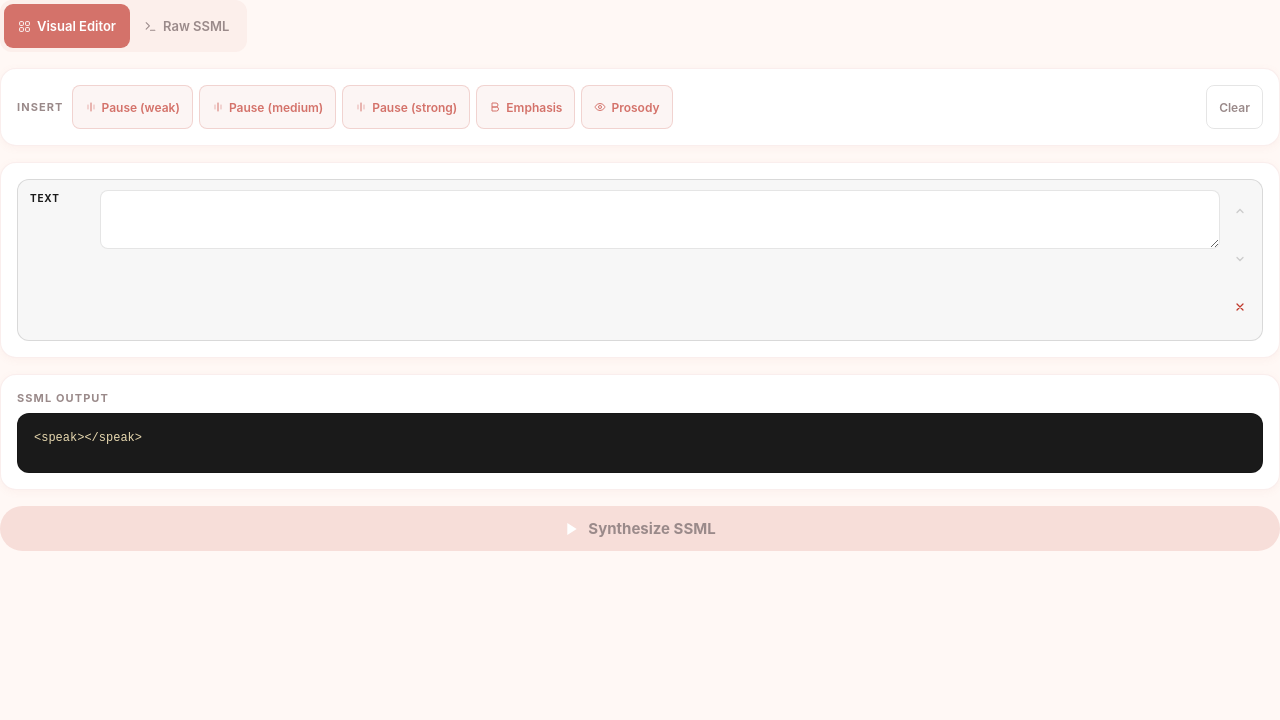
Scenario: tag insertion › emphasized text updates the SSML
Click the button with aria-label "insert emphasis". click: (526, 107)
box: x1=476 y1=85 x2=575 y2=129
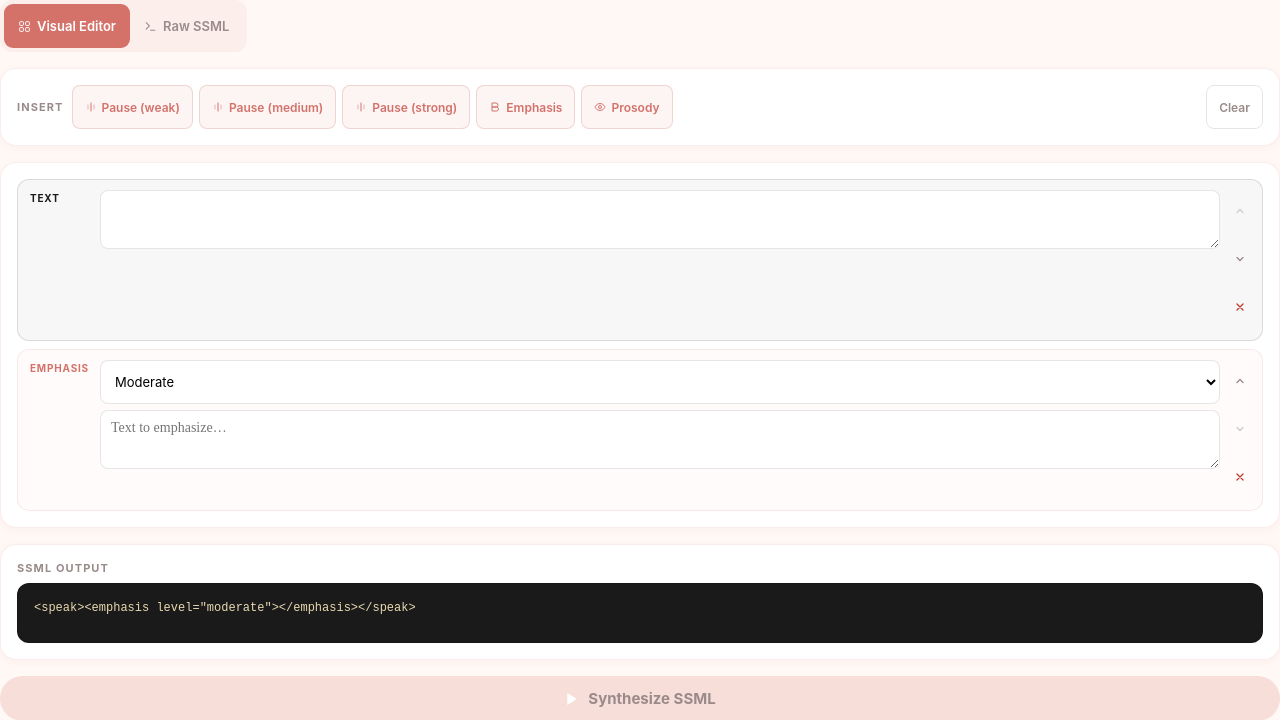
Type "hello" into the text box named "Emphasized text". click: (660, 439)
box: x1=100 y1=410 x2=1220 y2=469
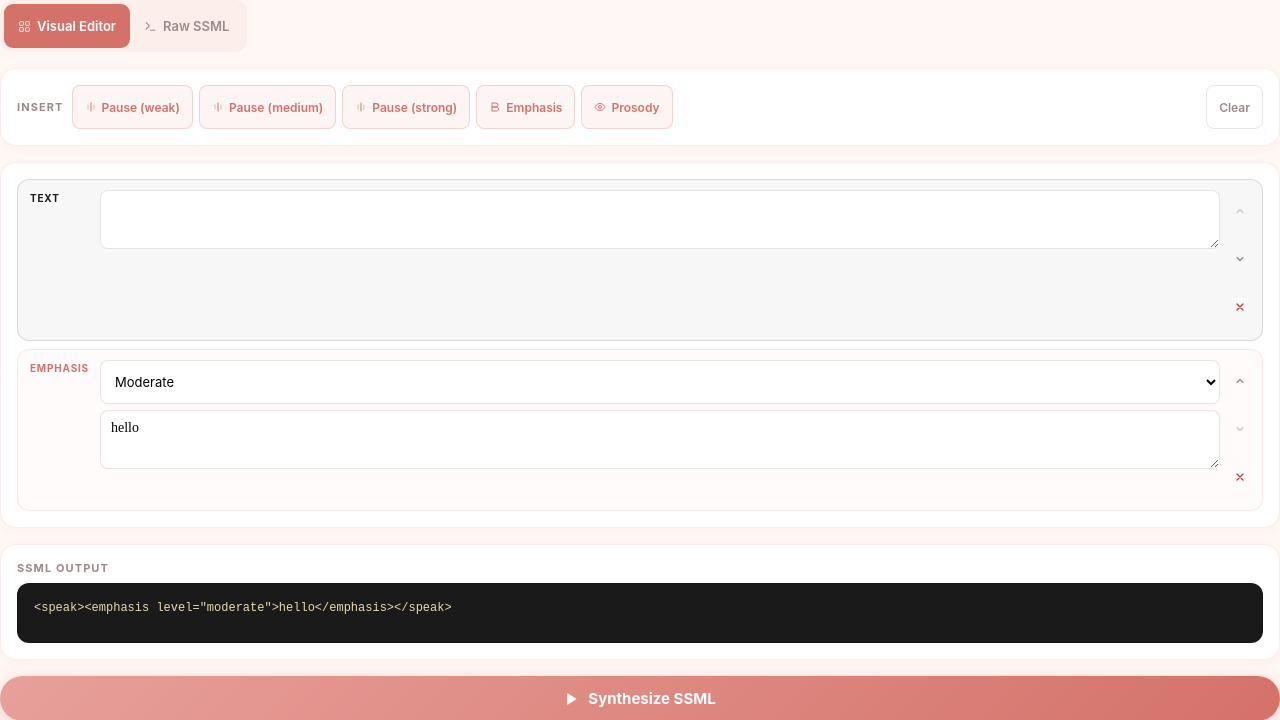
expect the text named "Generated SSML" shows ">hello<": met, box x1=34 y1=601 x2=452 y2=615
